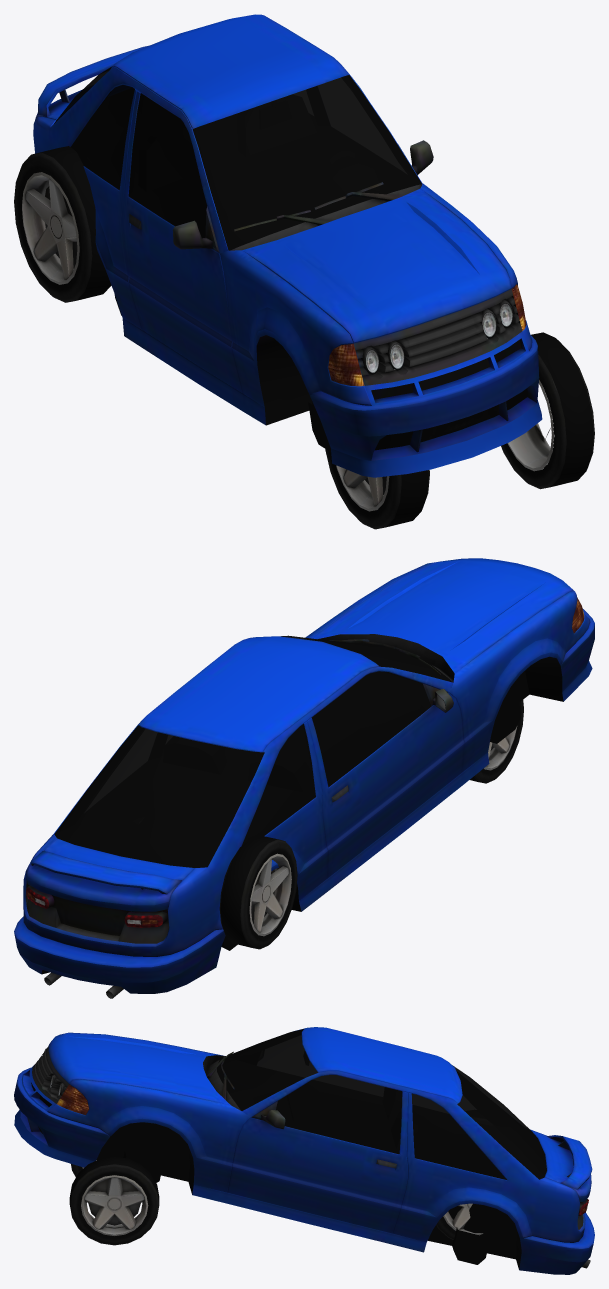
The model's file is car-concept.glb.
The picture shows the model from 3 angles, top to bottom: view 1: azimuth 30°, elevation 25°; view 2: azimuth 150°, elevation 25°; view 3: azimuth 270°, elevation 25°; orthographic projection. The views are drawn at different scales.
Visible parts, largest first — view 1: Coupe Body_Body_0, Coupe Body_Glass_0, Wheel_F003_Wheel_0, Wheel_F_Wheel_0, Wheel_F002_Wheel_0, Coupe Body_Optics_0; view 2: Coupe Body_Body_0, Coupe Body_Glass_0, Wheel_F003_Wheel_0, Wheel_F002_Wheel_0, Coupe Body_Optics_0; view 3: Coupe Body_Body_0, Coupe Body_Glass_0, Wheel_F_Wheel_0, Coupe Body_Optics_0, Wheel_F001_Wheel_0.
Boxes of the visible parts, left/top/right/bottom form: Coupe Body_Body_0: left=33, top=14, right=542, bottom=477; Coupe Body_Glass_0: left=53, top=66, right=421, bottom=250; Wheel_F003_Wheel_0: left=14, top=146, right=111, bottom=302; Wheel_F_Wheel_0: left=501, top=332, right=594, bottom=489; Wheel_F002_Wheel_0: left=325, top=449, right=429, bottom=529; Coupe Body_Optics_0: left=328, top=284, right=526, bottom=386; Coupe Body_Body_0: left=14, top=558, right=594, bottom=998; Coupe Body_Glass_0: left=54, top=635, right=451, bottom=867; Wheel_F003_Wheel_0: left=219, top=835, right=297, bottom=949; Wheel_F002_Wheel_0: left=470, top=700, right=523, bottom=783; Coupe Body_Optics_0: left=26, top=597, right=584, bottom=927; Coupe Body_Body_0: left=14, top=1027, right=594, bottom=1274; Coupe Body_Glass_0: left=217, top=1028, right=546, bottom=1179; Wheel_F_Wheel_0: left=69, top=1156, right=159, bottom=1245; Coupe Body_Optics_0: left=44, top=1049, right=588, bottom=1215; Wheel_F001_Wheel_0: left=436, top=1158, right=488, bottom=1239.
Bounding box in the file's own units: 1.47 × 1.38 × 3.8.
Materials: 4 (3 with a texture image).
